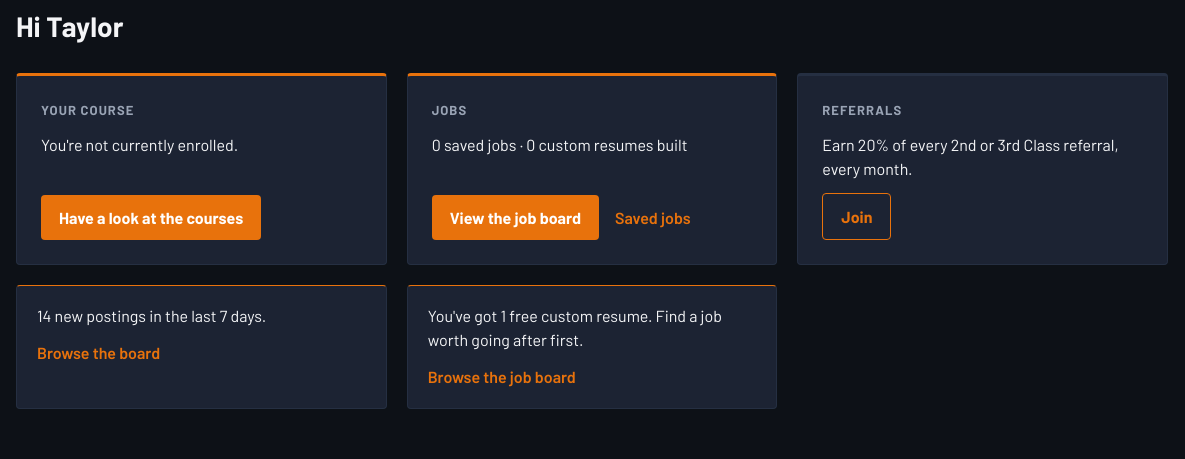
HomePage › Join failure shows the server message
Expected: the text "Earn 20% of every 2nd or 3rd Class referral, every month." is shown, [822,133,1143,181]
Click the button "Join" at (857, 216), box [822,193,891,240]
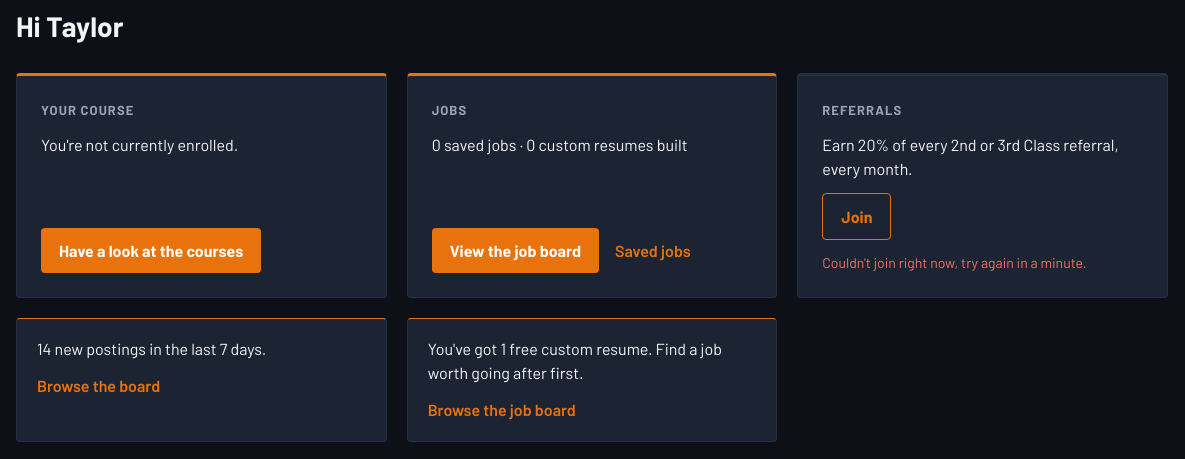
Now the text "Couldn't join right now, try again in a minute." is shown, box [822,254,1087,271]
